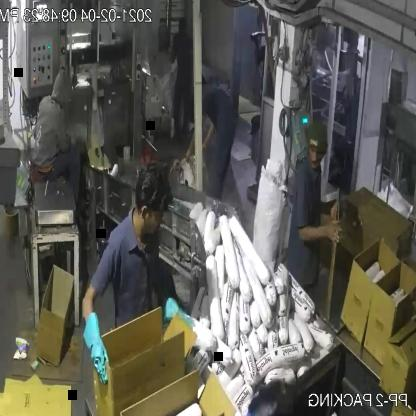glove: (79, 297, 114, 393), (154, 293, 205, 346)
no_glove: (294, 214, 345, 253), (312, 192, 348, 226), (182, 122, 207, 166), (198, 116, 218, 158)
